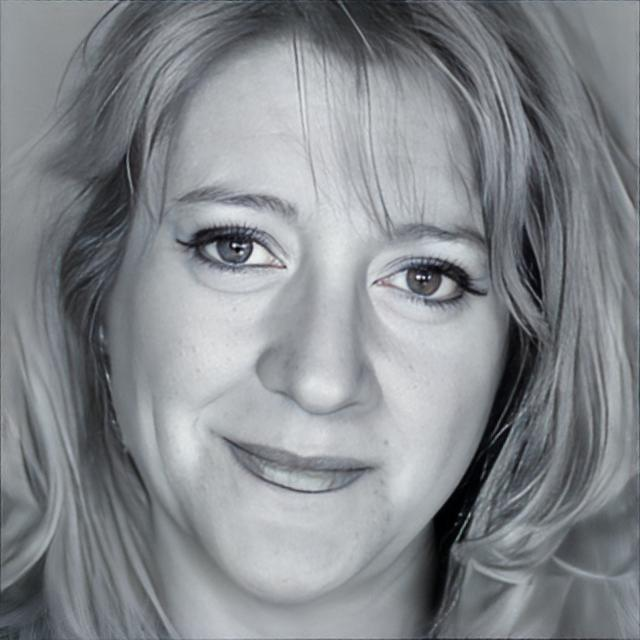content: (105, 29, 515, 604)
